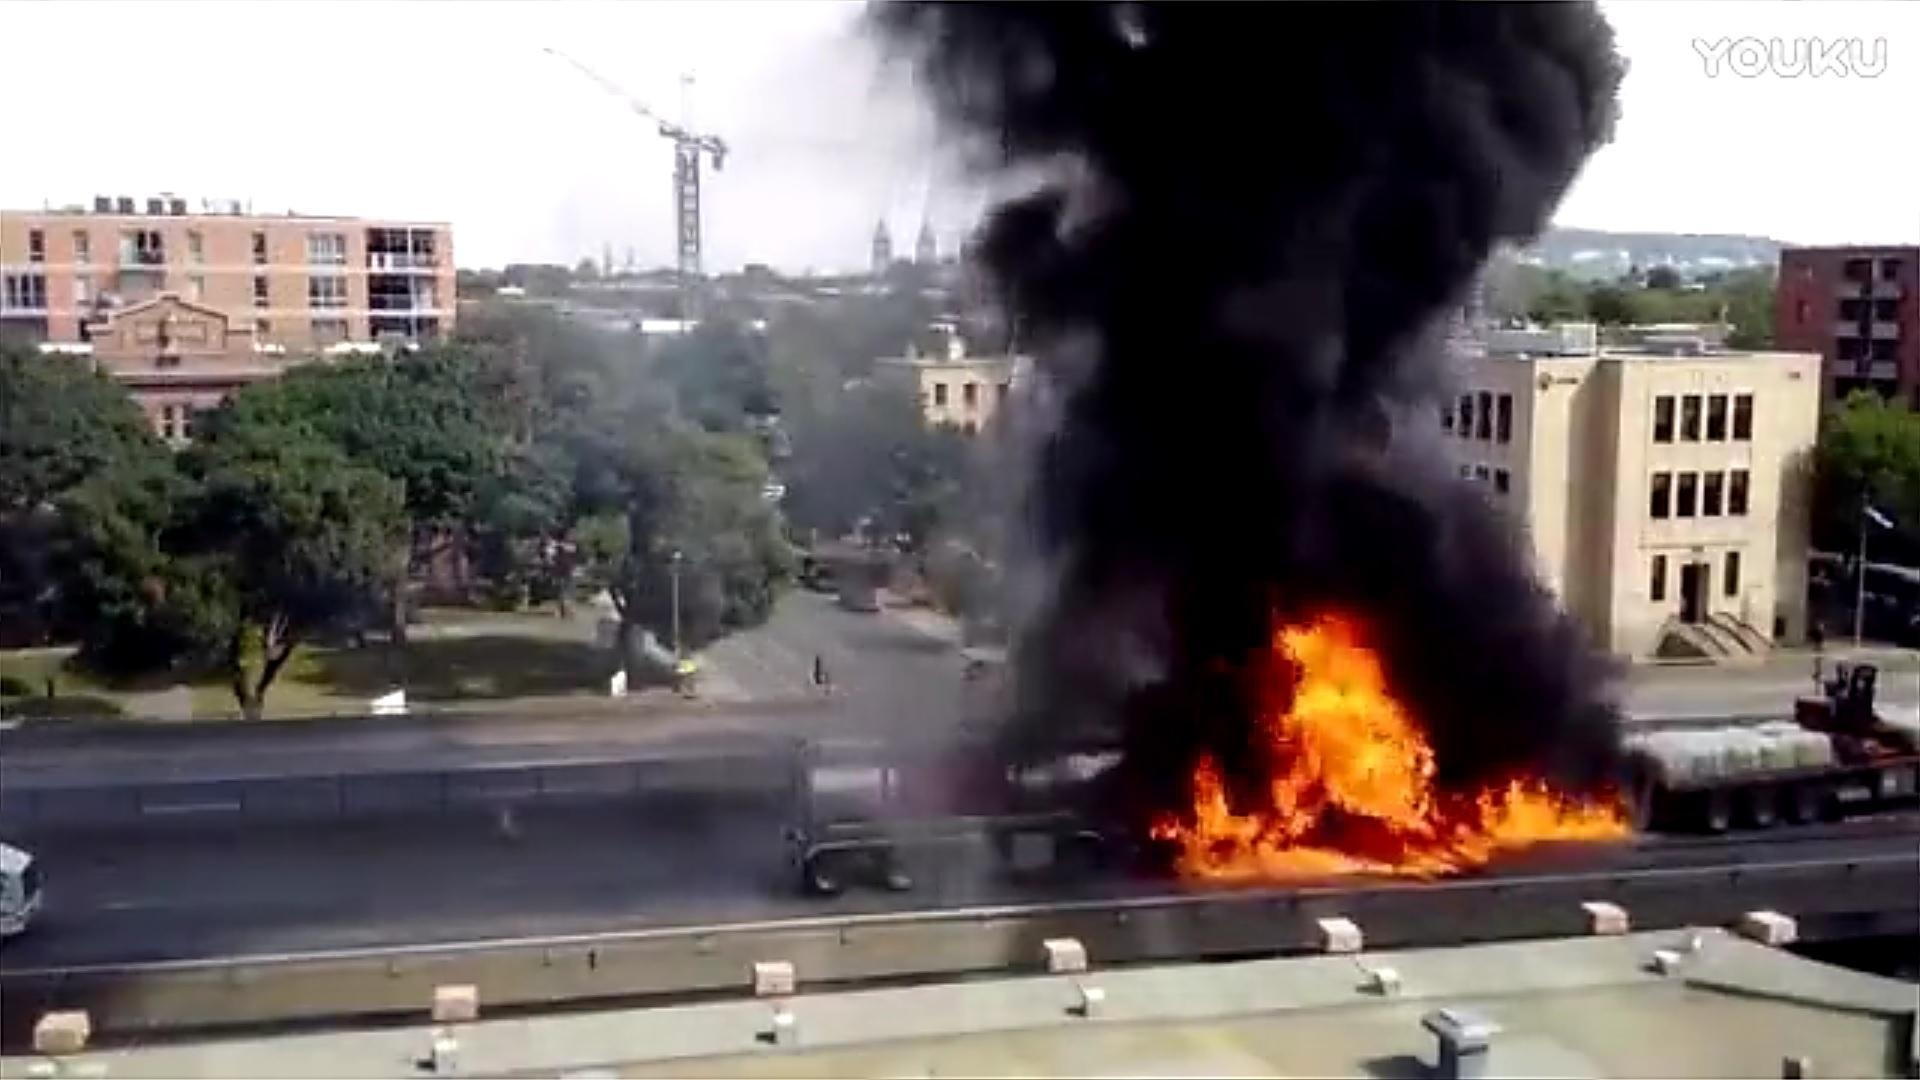fire: (1155, 611, 1643, 895)
